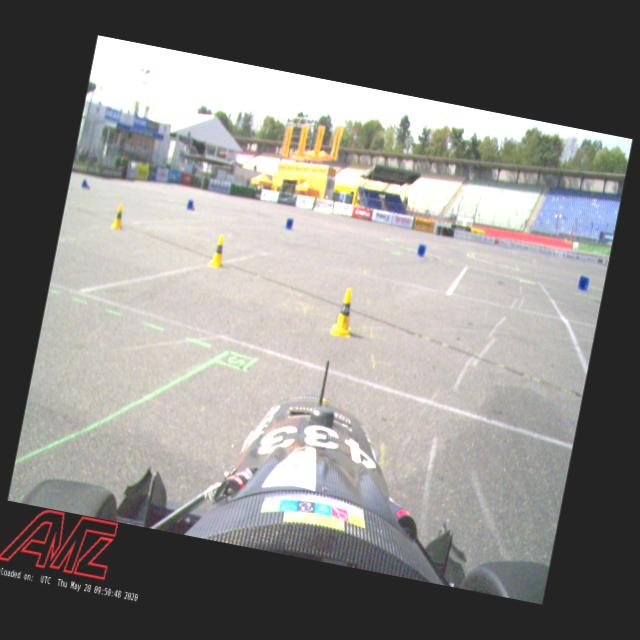blue_cone: (80, 178, 92, 190), (186, 200, 197, 213)
yellow_cone: (330, 286, 360, 340), (207, 233, 229, 270), (110, 203, 127, 231)
